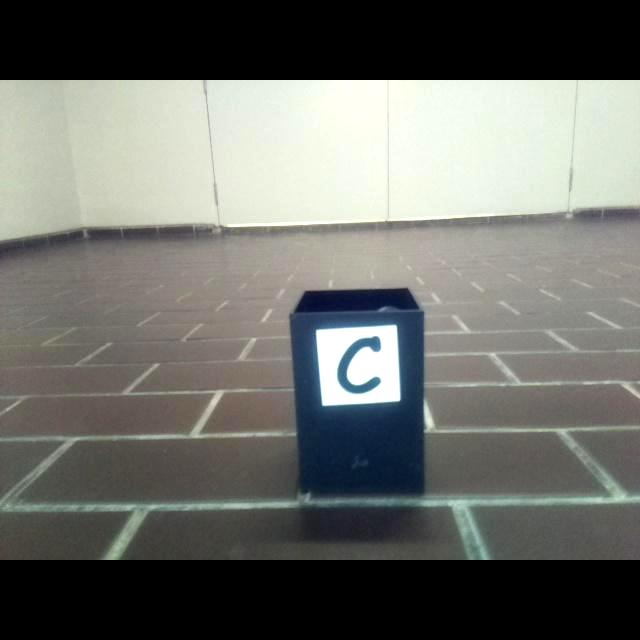C: (337, 336, 382, 396)
